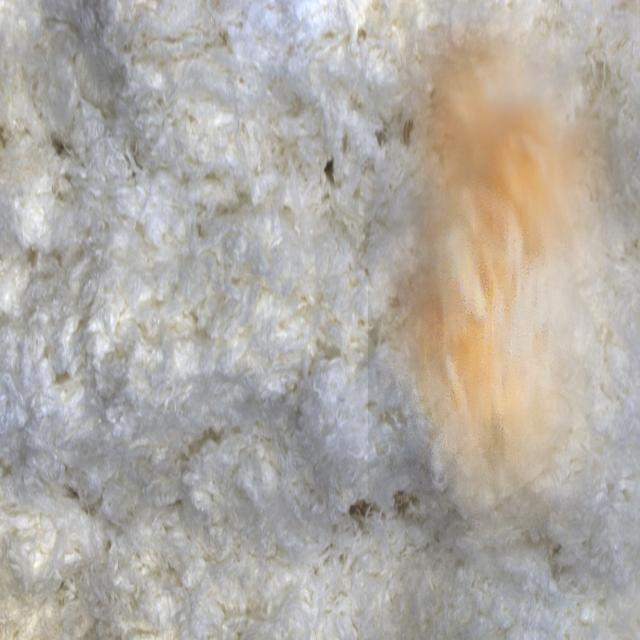dust: (368, 3, 640, 570)
